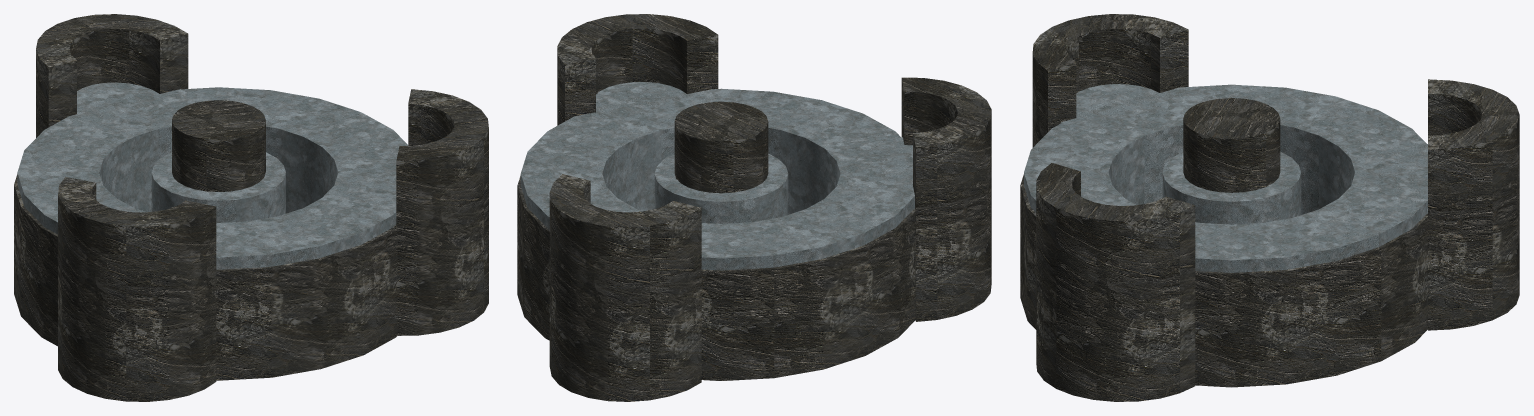
Rendered from level_01_model.fbx.
3 views of the same model, side by side, from view 1: azimuth 30°, elevation 25°; view 2: azimuth 150°, elevation 25°; view 3: azimuth 270°, elevation 25° (orthographic). The views are drawn at different scales.
Parts seen in each view (by area): view 1: mergedBlocks; view 2: mergedBlocks; view 3: mergedBlocks.
Part boxes in pixels (box(x1,y1,x2,y2)): mergedBlocks: box(14, 14, 488, 401); mergedBlocks: box(517, 14, 991, 401); mergedBlocks: box(1020, 14, 1519, 401).
Bounding box in the file's own units: 35.34 × 14.4 × 36.
